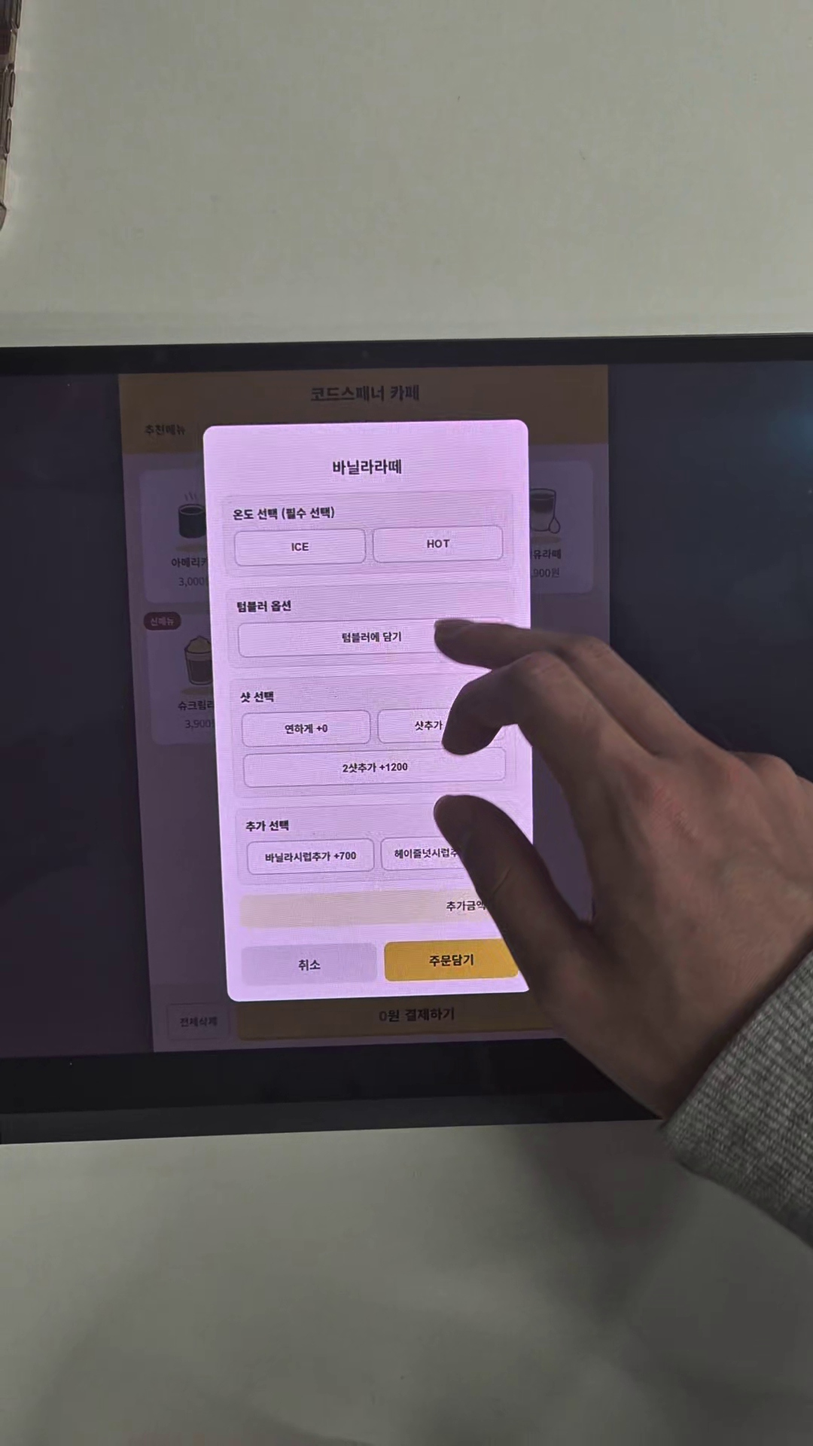action_button: (385, 938, 518, 981), (244, 941, 376, 984)
option_button: (239, 618, 499, 659), (244, 749, 504, 788), (372, 524, 502, 562), (379, 706, 509, 744), (236, 529, 365, 567), (244, 710, 373, 748), (382, 834, 512, 871), (245, 838, 374, 875)
popup_modal: (204, 420, 540, 999)
